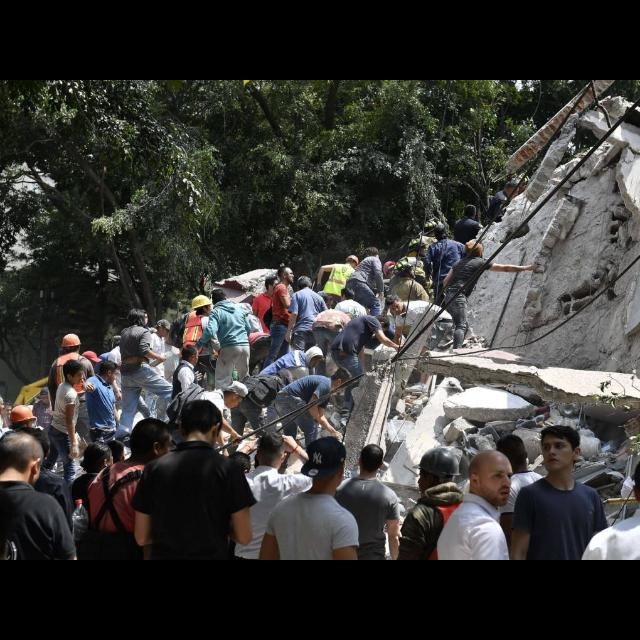head: (183, 305, 274, 383), (468, 449, 514, 507), (0, 432, 46, 486), (178, 398, 224, 449), (130, 417, 174, 465), (542, 426, 584, 472), (311, 438, 347, 488), (417, 456, 457, 494), (493, 436, 529, 476), (256, 434, 290, 470), (19, 428, 51, 464), (85, 442, 115, 472), (358, 444, 386, 474), (11, 405, 35, 433), (225, 384, 248, 410), (334, 367, 354, 395), (465, 239, 485, 265), (64, 360, 85, 384), (99, 362, 119, 386), (332, 370, 352, 394), (62, 335, 82, 355), (182, 345, 200, 367), (386, 294, 404, 316), (306, 348, 324, 370), (398, 262, 418, 280), (278, 266, 296, 284), (196, 298, 212, 316), (374, 316, 390, 334), (412, 242, 430, 258), (505, 182, 521, 200), (212, 290, 228, 306), (129, 309, 143, 325), (157, 322, 171, 338), (265, 278, 281, 292), (297, 276, 313, 290), (364, 248, 380, 262), (113, 336, 127, 350), (191, 306, 205, 320), (341, 288, 355, 302), (342, 312, 356, 326), (425, 223, 439, 237), (322, 295, 334, 311), (464, 205, 476, 221), (122, 331, 136, 344), (434, 225, 448, 238), (40, 389, 51, 405), (348, 256, 360, 270), (238, 304, 250, 314)
person: (436, 238, 542, 358), (117, 308, 197, 456), (270, 366, 356, 472), (160, 378, 252, 472), (27, 358, 87, 500), (188, 288, 254, 416), (0, 404, 52, 553), (254, 345, 326, 451), (326, 314, 396, 421), (422, 222, 482, 346), (44, 330, 98, 466), (183, 305, 274, 383), (381, 293, 455, 387), (105, 329, 159, 453), (168, 294, 222, 418), (80, 358, 122, 499), (412, 215, 456, 342), (289, 373, 349, 465), (156, 305, 198, 429), (170, 344, 214, 462), (390, 237, 436, 349), (256, 266, 298, 388), (282, 276, 332, 378), (390, 258, 432, 378), (308, 306, 364, 394), (308, 255, 364, 338), (329, 286, 371, 392), (446, 204, 489, 306), (481, 179, 523, 279), (342, 245, 388, 335), (292, 292, 338, 381), (247, 274, 280, 386), (224, 300, 264, 392), (141, 316, 173, 426), (95, 334, 128, 440), (30, 387, 64, 477)
